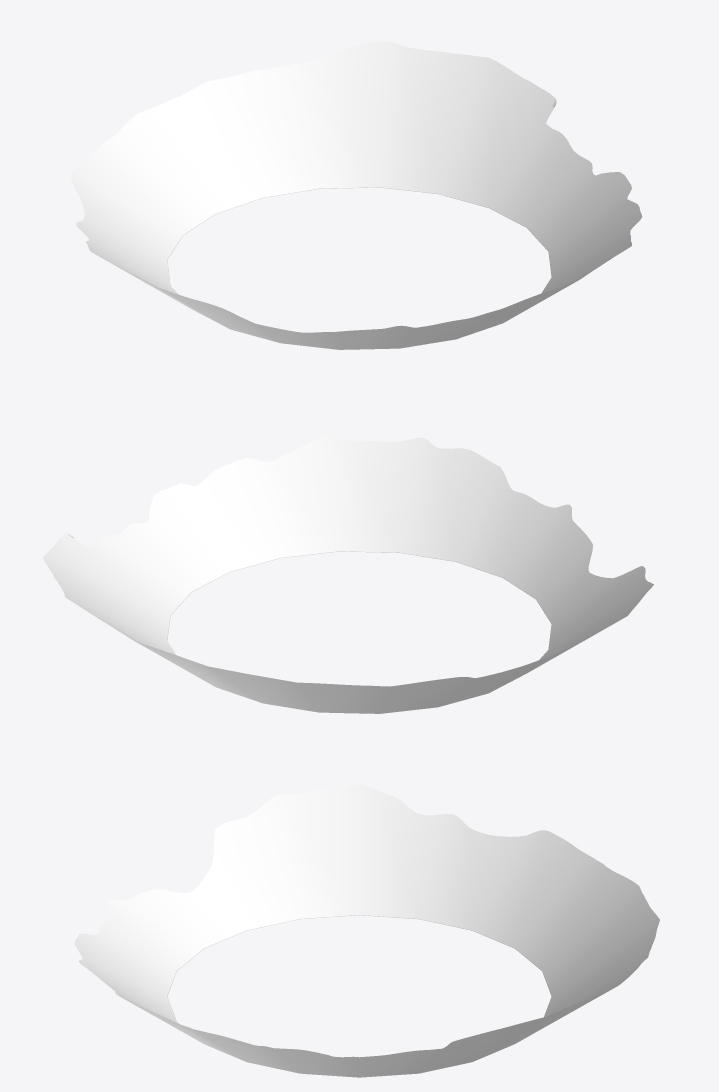
The model's file is eff.fbx.
The picture shows the model from 3 angles, top to bottom: view 1: azimuth 30°, elevation 25°; view 2: azimuth 150°, elevation 25°; view 3: azimuth 270°, elevation 25°; orthographic projection.
Visible parts, largest first — view 1: pCylinder1; view 2: pCylinder1; view 3: pCylinder1.
Part boxes in pixels (x1=…): pCylinder1: x1=71, y1=41, x2=642, y2=349; pCylinder1: x1=43, y1=432, x2=653, y2=713; pCylinder1: x1=74, y1=784, x2=659, y2=1077.
Bounding box in the file's own units: 35.49 × 6.13 × 35.49.
1 material, 1 textured.
